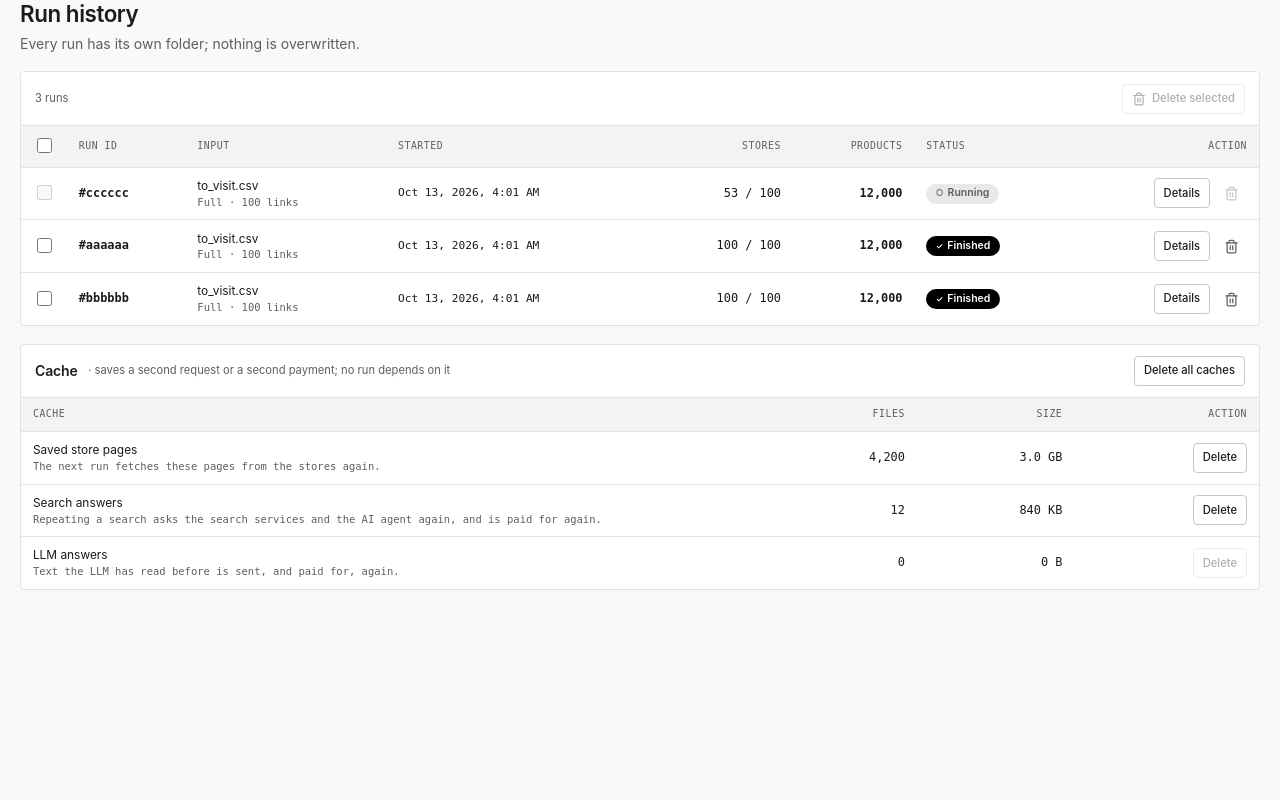
Scenario: History: deleting runs › names a run that could not be deleted and deletes the rest
Click the checkbox named "Select all runs": [44, 145] box [37, 138, 52, 153]
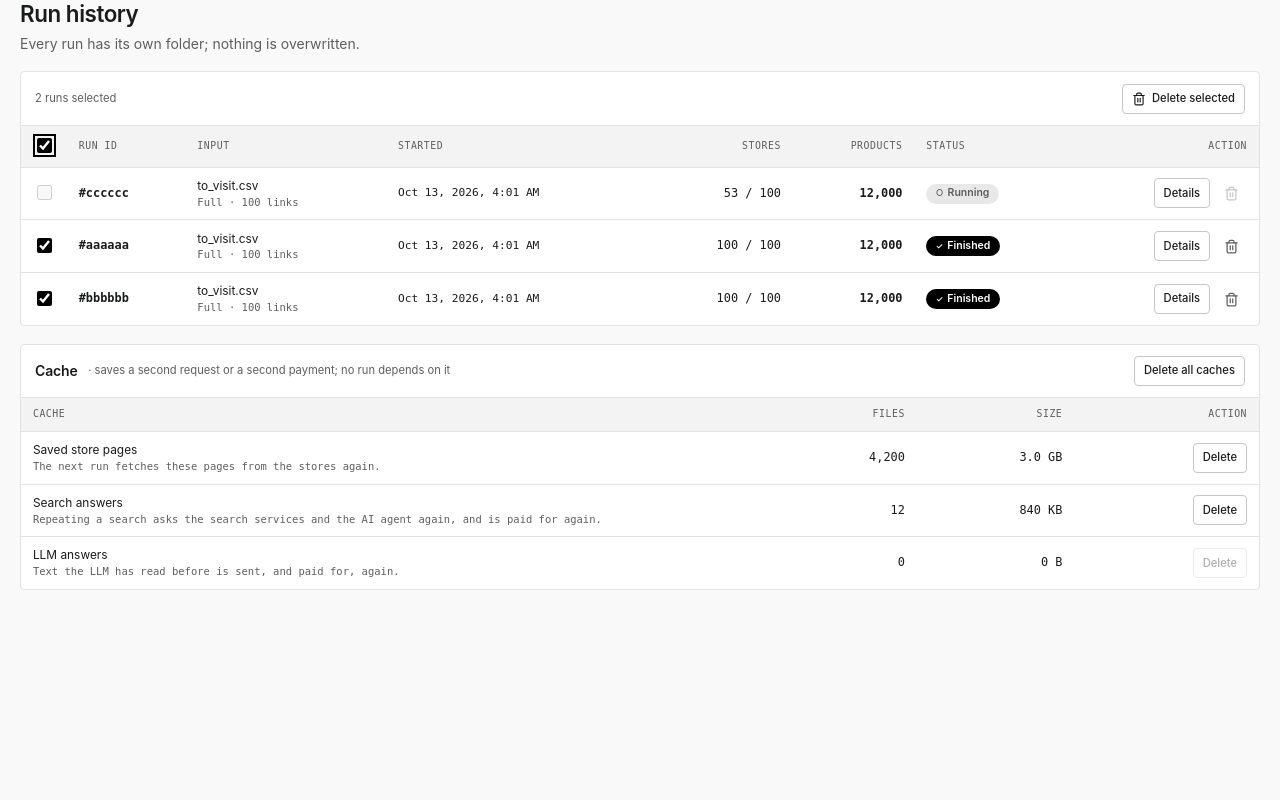
Click the button "Delete selected": [1183, 99] box [1122, 84, 1245, 114]
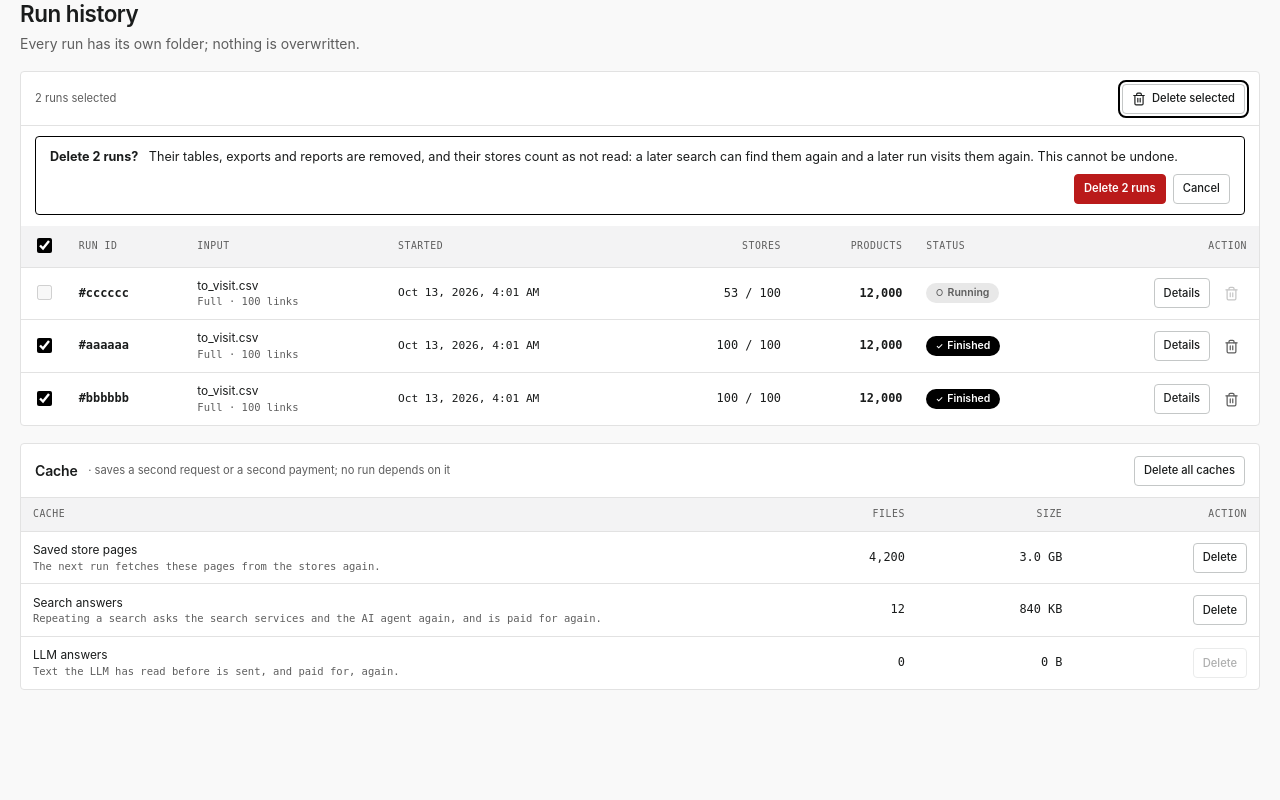
Click the button "Delete 2 runs": [1120, 189] box [1074, 174, 1166, 204]
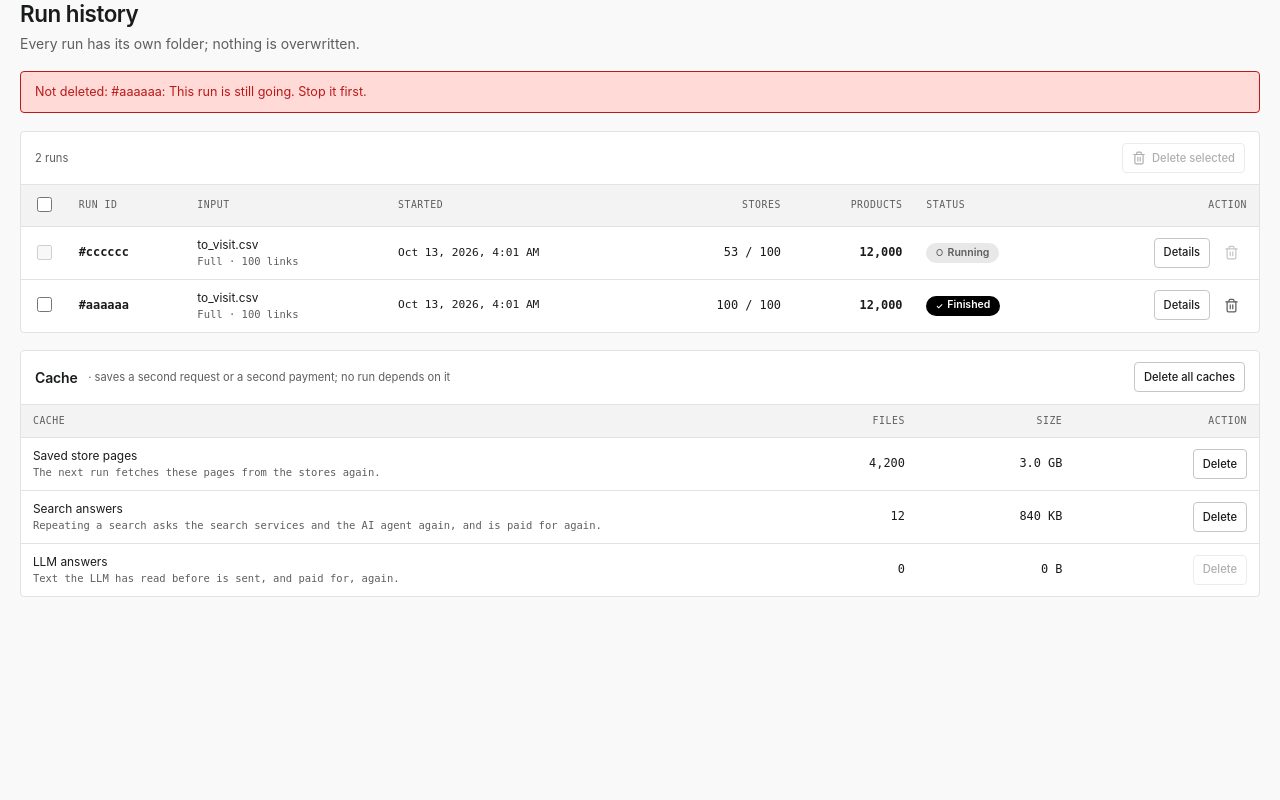
Now the message reads "Not deleted: #aaaaaa: This run is still going. Stop it first.", box [35, 84, 367, 99]
